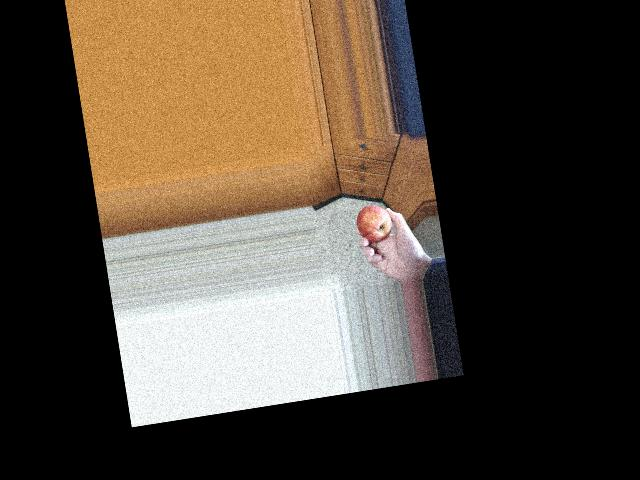apple: (353, 200, 402, 254)
